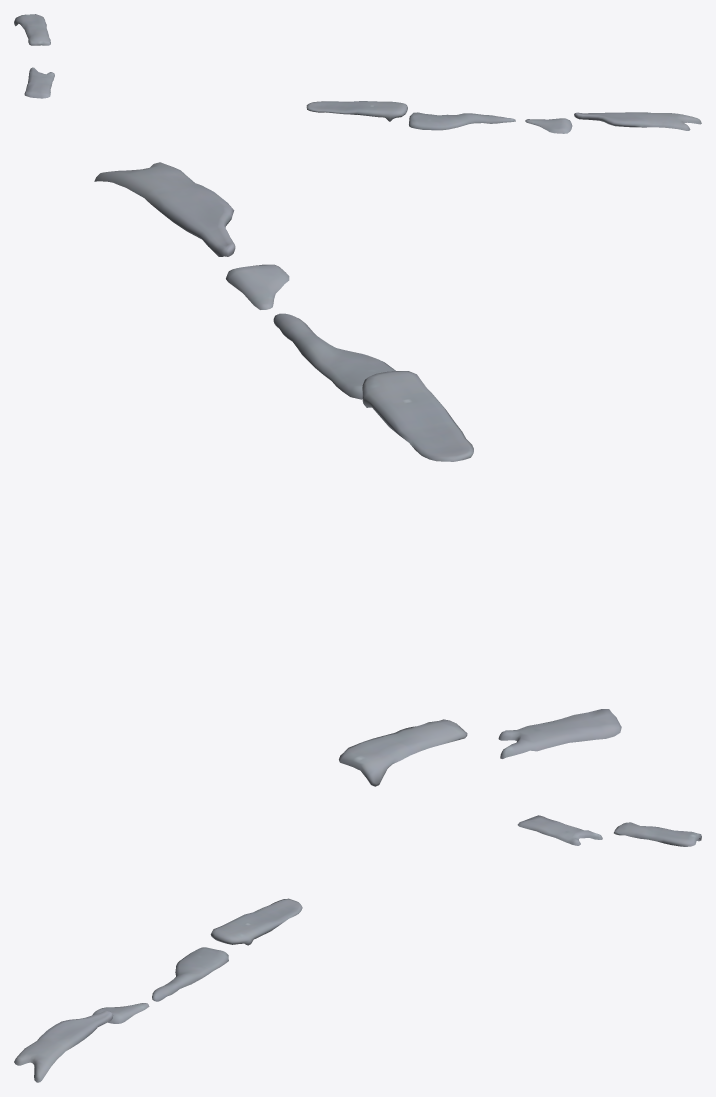
Rendered from pref_sm_beach_winter_snow14_lv3.fbx.
The picture shows the model from 3 angles, top to bottom: view 1: azimuth 30°, elevation 25°; view 2: azimuth 150°, elevation 25°; view 3: azimuth 270°, elevation 25°; orthographic projection. The views are drawn at different scales.
Parts seen in each view (by area): view 1: pref_sm_beach_winter_snow14_lv3; view 2: pref_sm_beach_winter_snow14_lv3; view 3: pref_sm_beach_winter_snow14_lv3.
Boxes of the visible parts, x1,y1,x2,y2 form: pref_sm_beach_winter_snow14_lv3: (14, 14, 701, 133); pref_sm_beach_winter_snow14_lv3: (94, 162, 621, 786); pref_sm_beach_winter_snow14_lv3: (14, 815, 701, 1082).
Size of the model in its own units: 15.54 by 0.8264 by 16.33.
